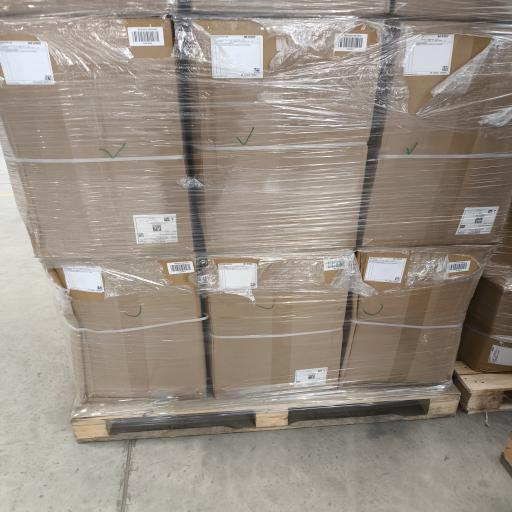pallet: (71, 384, 460, 442), (454, 361, 511, 413), (503, 433, 511, 468)
